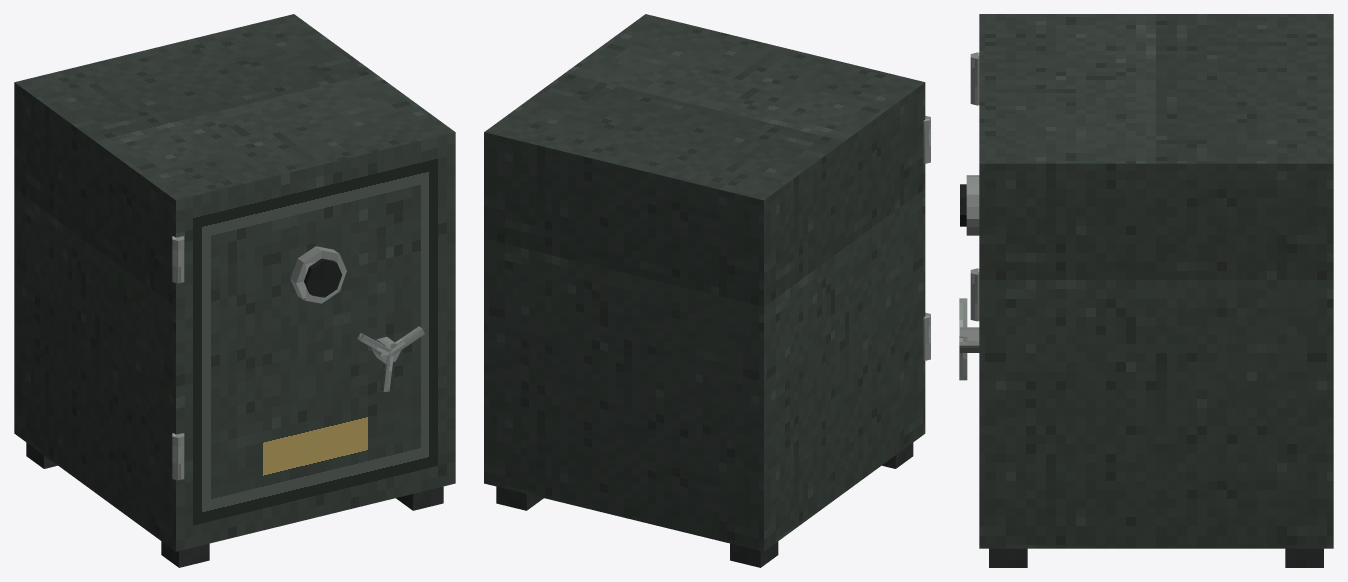
Rendered from safe.glb.
3 views of the same model, side by side, from view 1: azimuth 30°, elevation 25°; view 2: azimuth 150°, elevation 25°; view 3: azimuth 270°, elevation 25° (orthographic). The views are drawn at different scales.
Visible parts, largest first — view 1: Safe; view 2: Safe; view 3: Safe.
Part boxes in pixels (x1,y1,x2,y2): Safe: (14,14,455,567); Safe: (484,14,930,567); Safe: (959,14,1333,567).
Size of the model in its own units: 0.559 by 0.7 by 0.581.
5 materials, 5 textured.
